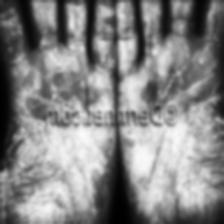Non-Cancerous Skin Condition: (0, 123, 110, 224), (116, 34, 219, 118), (122, 125, 224, 206)
